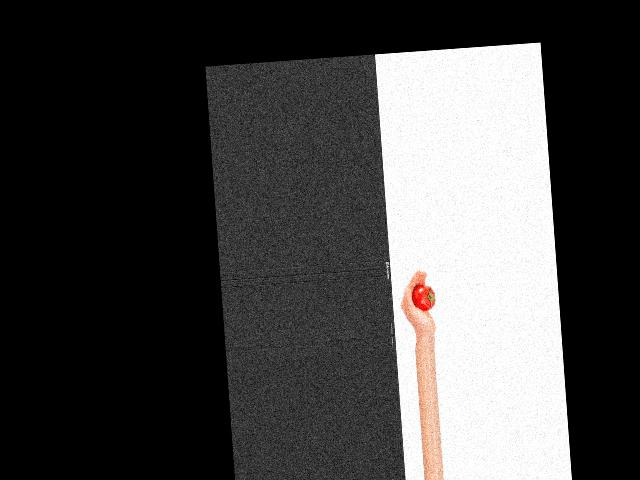tomato: (411, 285, 435, 312)
